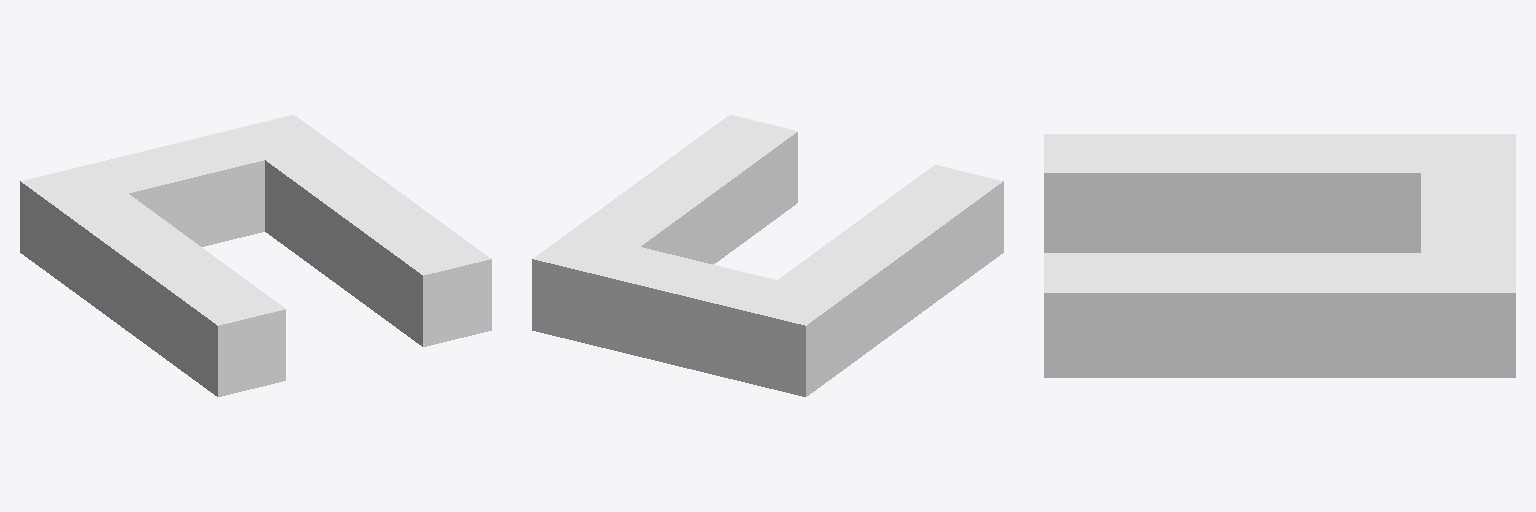
URDF robot description (visual):
<?xml version="1.0"?>
<robot name="visual">
<!-- [author], March 2021 -->
<!-- basic 2-fingers gripper -->
  <link name="base">
  <inertial>
    <mass value="1"/>
    <inertia ixx="100" ixy="0" ixz="0" iyy="100" iyz="0" izz="100" />
    <origin/>
  </inertial>
    <visual>
      <geometry>
        <box size="0.4 .1 .1"/>
      </geometry>
      <origin rpy="0 0 0" xyz="0 -0.1 0"/>
      <material name="white">
        <color rgba="1 1 1 1"/>
      </material>
    </visual>
  <collision>
      <origin rpy="0 0 0" xyz="0 -0.1 0"/>
    <geometry>
        <box size="0.3 .1 .3"/>
    </geometry>
    <contact_coefficients mu="0" kp="1000.0" kd="1.0"/>
  </collision>
  </link>

  <link name="left_fingertip">
  <inertial>
    <mass value="1"/>
    <inertia ixx="100" ixy="0" ixz="0" iyy="100" iyz="0" izz="100" />
    <origin/>
  </inertial>
    <visual>
      <geometry>
        <box size="0.1 .4 .1"/>
      </geometry>
      <origin rpy="0 0 0" xyz="0 0 0"/>
      <material name="white">
        <color rgba="1 1 1 1"/>
      </material>
    </visual>
  <collision>
      <origin rpy="0 0 0" xyz="0 0 0"/>
    <geometry>
        <box size="0.1 .4 .1"/>
    </geometry>
    <contact_coefficients mu="0" kp="1000.0" kd="1.0"/>
  </collision>
  </link>

  <joint name="base_to_left_fingertip" type="prismatic">
    <axis xyz="1 0 0"/>
    <limit effort="1.0" lower="0" upper="0.3" velocity="0.5"/>
    <parent link="base"/>
    <child link="left_fingertip"/>
    <origin xyz="-0.15 -0.35 0.0"/>
  </joint>

  <link name="right_fingertip">
  <inertial>
    <mass value="1"/>
    <inertia ixx="100" ixy="0" ixz="0" iyy="100" iyz="0" izz="100" />
    <origin/>
  </inertial>
    <visual>
      <geometry>
        <box size="0.1 .4 .1"/>
      </geometry>
      <origin rpy="0 0 0" xyz="0 0 0"/>
      <material name="white">
        <color rgba="1 1 1 1"/>
      </material>
    </visual>
  <collision>
     <origin rpy="0 0 0" xyz="0 0 0"/>
    <geometry>
        <box size="0.1 .4 .1"/>
    </geometry>
    <contact_coefficients mu="0" kp="1000.0" kd="1.0"/>
  </collision>
  </link>

  <joint name="base_to_right_fingertip" type="prismatic">
    <axis xyz="1 0 0"/>
    <limit effort="1.0" lower="-0.3" upper="0.0" velocity="0.5"/>
    <parent link="base"/>
    <child link="right_fingertip"/>
    <origin xyz="0.15 -0.35 -0.0"/>
  </joint>

</robot>

--- Render facts (derived) ---
3 views of the same robot in one strip: view 1: azimuth 30°, elevation 25°; view 2: azimuth 150°, elevation 25°; view 3: azimuth 270°, elevation 25° (orthographic).
Model visual with 3 links and 2 joints (2 prismatic), rooted at base, posed all joints at 0.
Visible links, largest first — view 1: right_fingertip, left_fingertip, base; view 2: base, left_fingertip, right_fingertip; view 3: right_fingertip, left_fingertip, base.
Link boxes in pixels (bbox=[...]): right_fingertip: bbox=[265, 143, 491, 346]; left_fingertip: bbox=[60, 194, 285, 396]; base: bbox=[20, 115, 332, 280]; base: bbox=[532, 230, 845, 396]; left_fingertip: bbox=[778, 165, 1003, 367]; right_fingertip: bbox=[573, 115, 797, 264]; right_fingertip: bbox=[1044, 253, 1420, 377]; left_fingertip: bbox=[1044, 134, 1420, 252]; base: bbox=[1421, 134, 1515, 377].
Size in the robot's own frame: 0.4 by 0.5 by 0.1 metres.
Geometry: primitives only (box / cylinder / sphere), no mesh files.